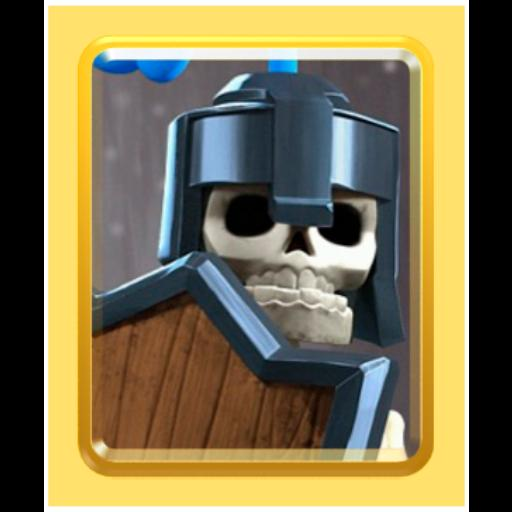guards: (95, 70, 395, 458)
